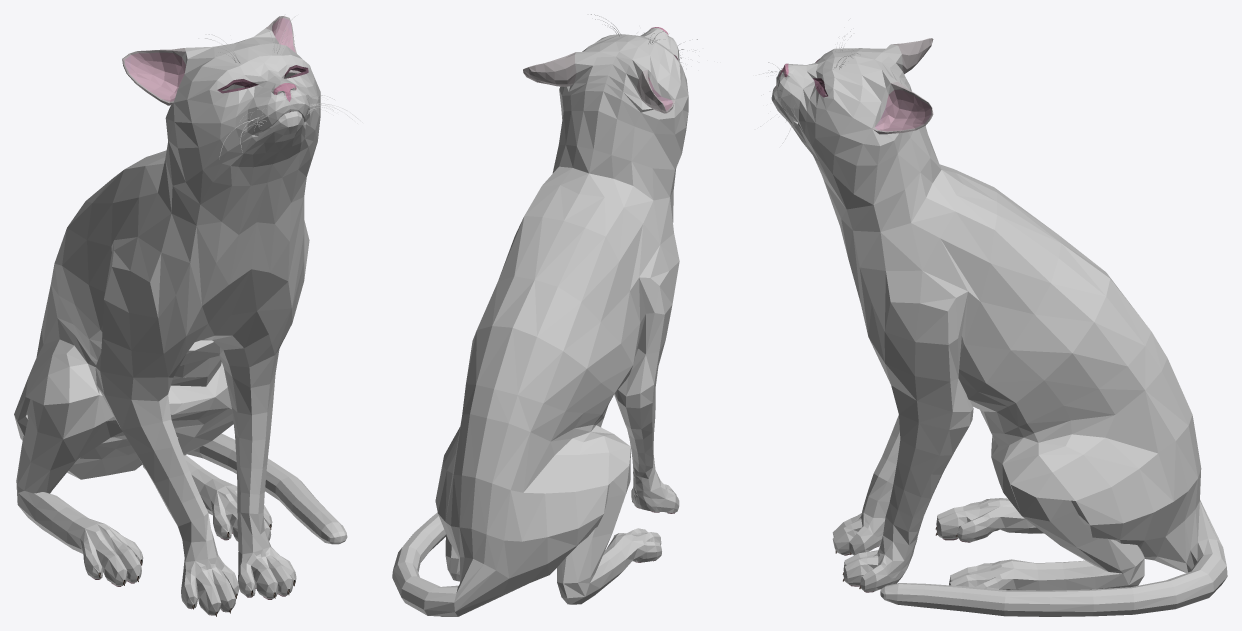
Rendered from Pet_sit_04.glb.
3 renders of one model, left to right at view 1: azimuth 30°, elevation 25°; view 2: azimuth 150°, elevation 25°; view 3: azimuth 270°, elevation 25°, orthographic. The views are drawn at different scales.
Parts seen in each view (by area): view 1: Pet_sit_04; view 2: Pet_sit_04; view 3: Pet_sit_04.
Part boxes in pixels (box(x1,y1,x2,y2)): Pet_sit_04: box(14, 14, 362, 616); Pet_sit_04: box(392, 14, 697, 616); Pet_sit_04: box(759, 31, 1227, 616).
Size of the model in its own units: 0.1901 by 0.4382 by 0.3531.
Materials: 1 (1 with a texture image).
